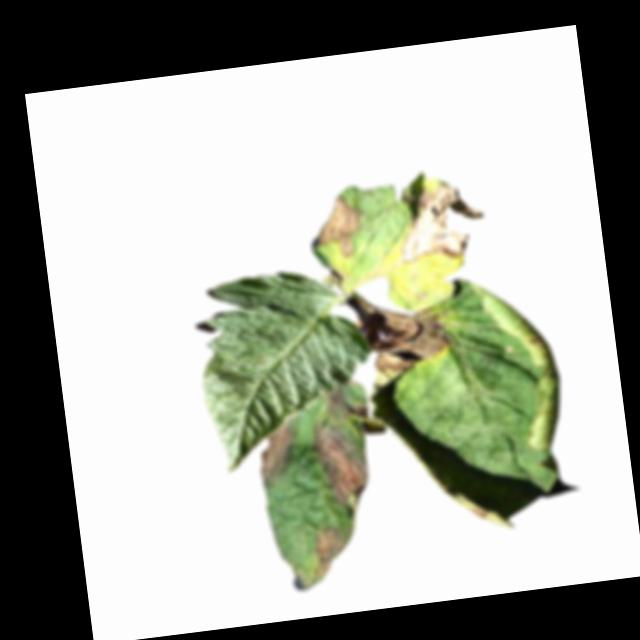Late_blight: (390, 182, 489, 270), (353, 299, 459, 381), (310, 415, 376, 517), (304, 192, 369, 262), (255, 420, 300, 488), (312, 525, 352, 583), (325, 384, 370, 423)
